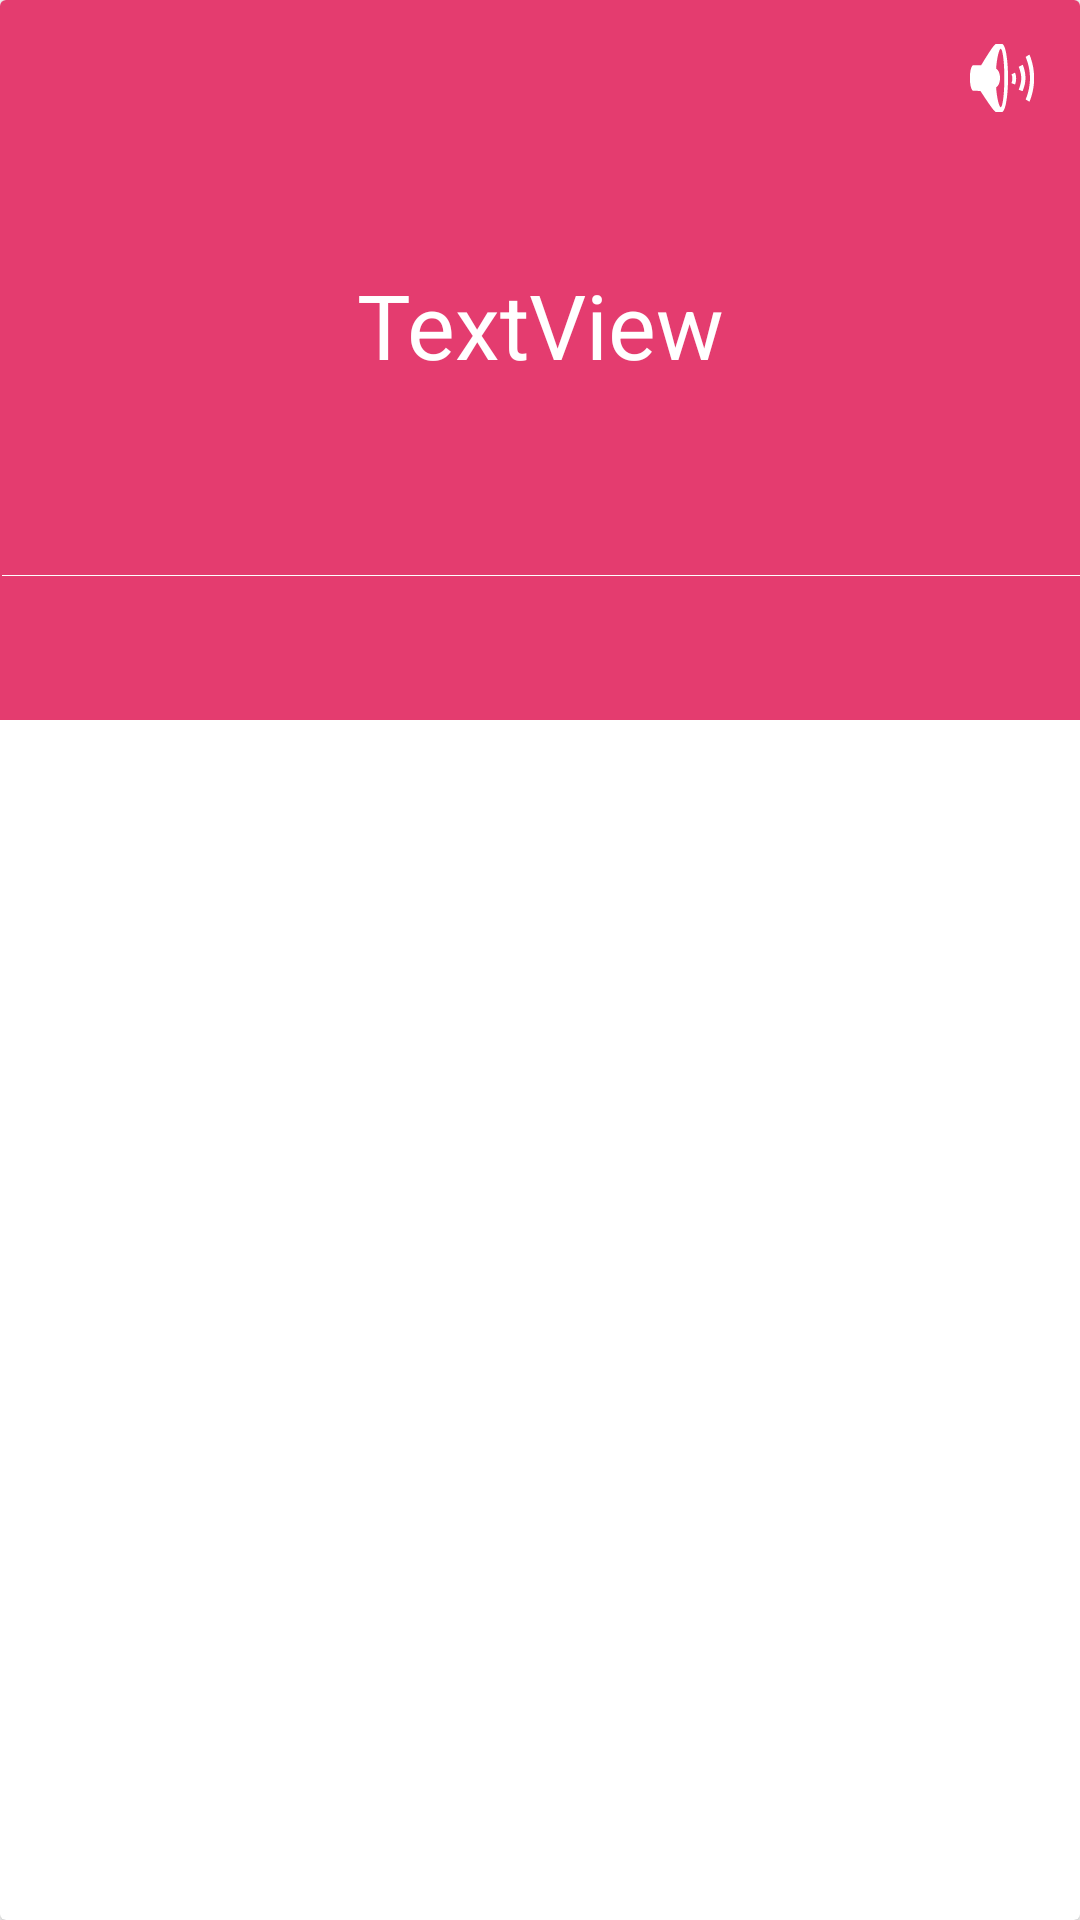

Screen size 1080*1920. Icon name, then its center in pixels as (x=x, y=y):
lock silent mode off: (x=1002, y=78)
